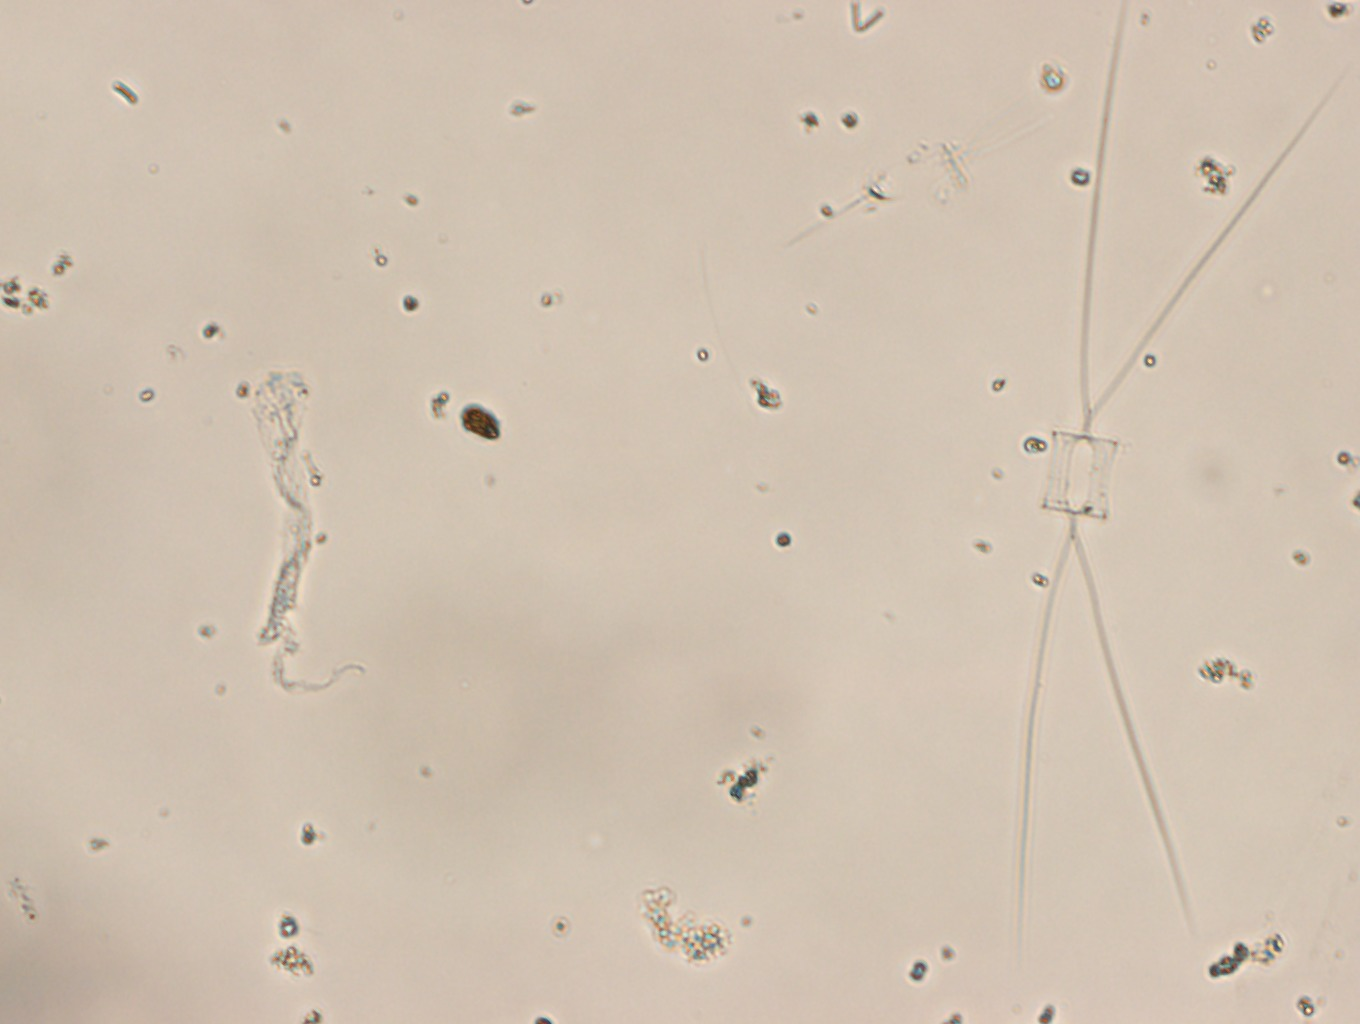chaetoceros: (1018, 1, 1356, 958)
